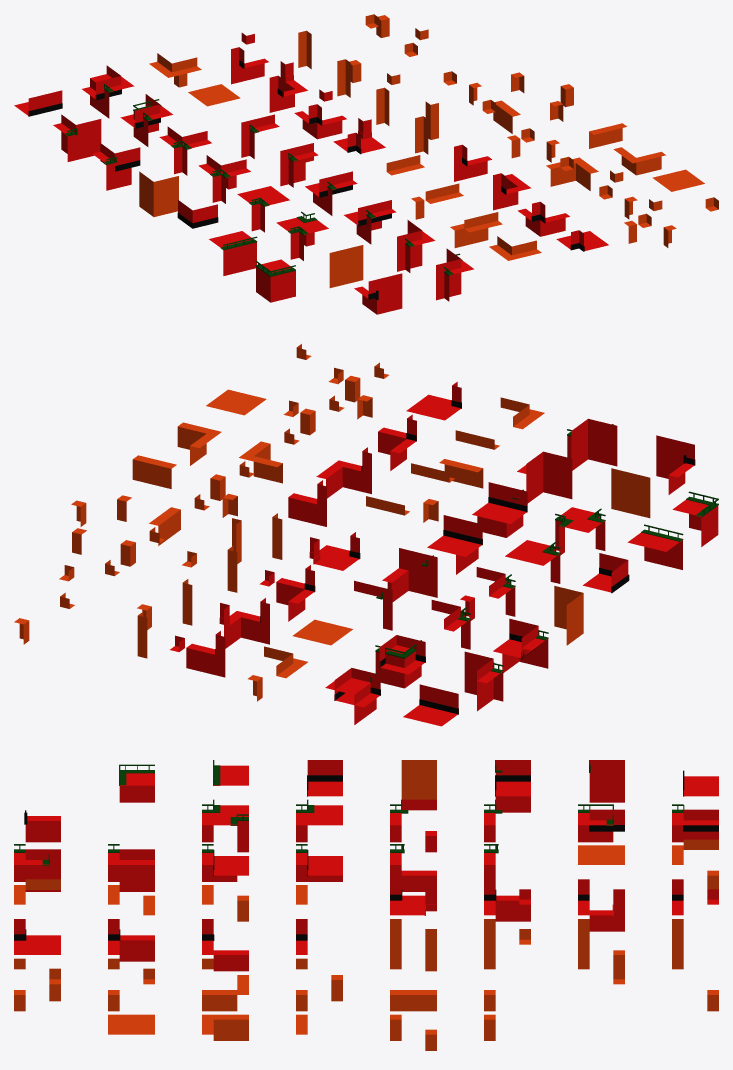
File: BaseMeshes.fbx
3 views of the same model, one above another, from view 1: azimuth 30°, elevation 25°; view 2: azimuth 150°, elevation 25°; view 3: azimuth 270°, elevation 25° (orthographic). The views are drawn at different scales.
Visible parts, largest first — view 1: Obj6, Obj1, Obj4, Obj2, Obj8, Obj5, Obj9, Obj15, Obj14, Obj30, Obj16, Obj17 (+36 smaller); view 2: Obj14, Obj18, Obj16, Obj17, Obj20, Obj5, Obj15, Obj19, Obj6, Obj9, Obj8, Obj30 (+33 smaller); view 3: Obj17, Obj16, Obj14, Obj6, Obj15, Obj5, Obj10, Obj30, Obj29, Obj4, Obj33, Obj19 (+30 smaller).
Boxes of the visible parts, left/top/right/bottom form: Obj6: left=53, top=114, right=101, bottom=161; Obj1: left=255, top=259, right=295, bottom=302; Obj4: left=139, top=171, right=178, bottom=216; Obj2: left=209, top=231, right=257, bottom=275; Obj8: left=354, top=273, right=402, bottom=314; Obj5: left=92, top=143, right=140, bottom=190; Obj9: left=329, top=245, right=363, bottom=287; Obj15: left=82, top=65, right=134, bottom=118; Obj14: left=120, top=94, right=172, bottom=146; Obj30: left=269, top=61, right=307, bottom=112; Obj16: left=436, top=248, right=473, bottom=301; Obj17: left=397, top=220, right=435, bottom=272; Obj14: left=375, top=635, right=425, bottom=688; Obj18: left=472, top=482, right=527, bottom=537; Obj16: left=567, top=418, right=617, bottom=470; Obj17: left=517, top=451, right=572, bottom=503; Obj20: left=382, top=548, right=437, bottom=601; Obj5: left=493, top=618, right=548, bottom=672; Obj15: left=325, top=668, right=380, bottom=724; Obj19: left=427, top=515, right=482, bottom=574; Obj6: left=464, top=651, right=503, bottom=711; Obj9: left=611, top=468, right=650, bottom=518; Obj8: left=656, top=435, right=695, bottom=494; Obj30: left=219, top=598, right=269, bottom=648; Obj17: left=108, top=844, right=154, bottom=891; Obj16: left=14, top=844, right=60, bottom=891; Obj14: left=578, top=804, right=624, bottom=842; Obj6: left=589, top=760, right=624, bottom=802; Obj15: left=672, top=804, right=718, bottom=842; Obj5: left=495, top=760, right=530, bottom=812; Obj10: left=202, top=799, right=248, bottom=852; Obj30: left=578, top=879, right=624, bottom=931; Obj29: left=484, top=879, right=530, bottom=921; Obj4: left=401, top=760, right=436, bottom=799; Obj33: left=108, top=919, right=154, bottom=961; Obj19: left=296, top=844, right=342, bottom=881.
Bounding box in the file's own units: 0.52 × 0.04 × 0.6.
